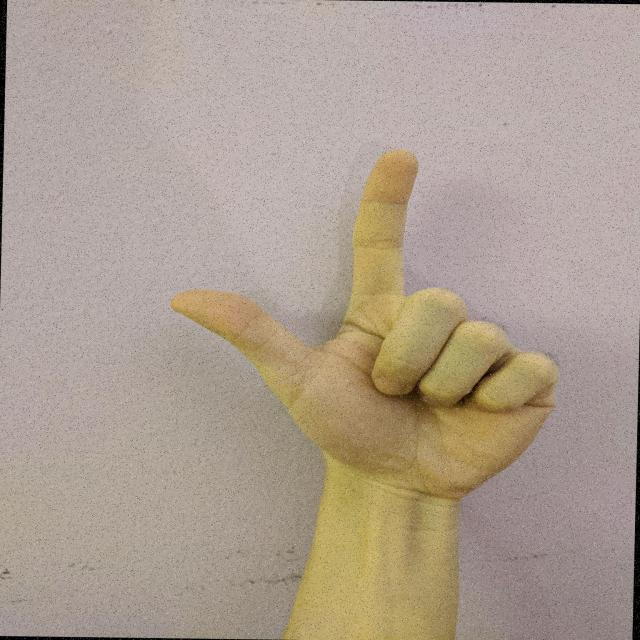L: (158, 141, 580, 507)
